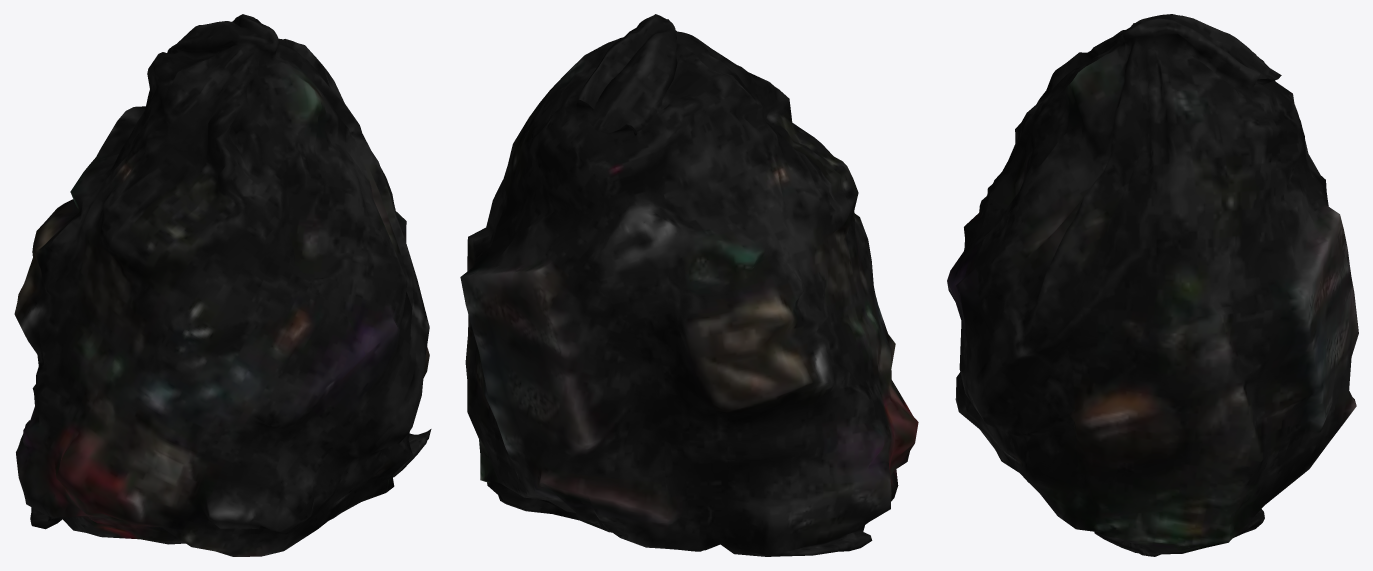
File: trashbag.glb
3 renders of one model, left to right at view 1: azimuth 30°, elevation 25°; view 2: azimuth 150°, elevation 25°; view 3: azimuth 270°, elevation 25°, orthographic. The views are drawn at different scales.
Parts seen in each view (by area): view 1: trashbag; view 2: trashbag; view 3: trashbag.
Boxes of the visible parts, bbox=[...] form: trashbag: bbox=[14, 14, 431, 556]; trashbag: bbox=[460, 14, 918, 556]; trashbag: bbox=[947, 14, 1358, 556].
Size of the model in its own units: 0.528 by 0.575 by 0.4629.
Materials: 1 (1 with a texture image).
